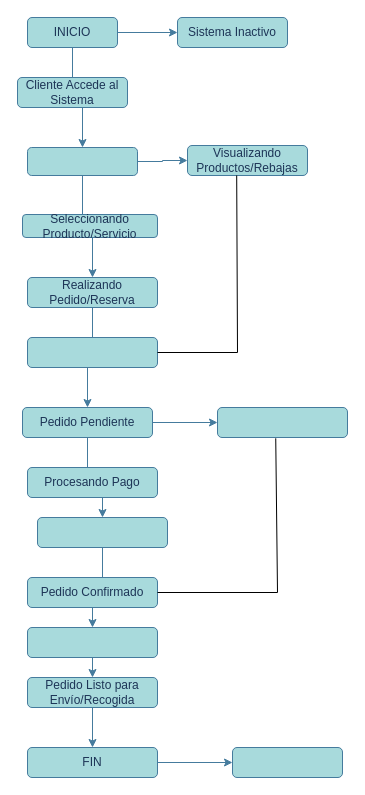
Some shapes in this 365 by 795 pixel diagram are drawn without their labels. Here are the shapes that lost their labels. From the top down, the box of each, then its label:
(26, 146, 138, 176): Consultando Disponibilidad
(26, 336, 158, 368): Proceso de Validación
(216, 406, 348, 438): Solicitud de Modificación
(36, 516, 168, 548): Autorizando Descuentos
(26, 626, 158, 658): En Proceso de Preparación
(232, 746, 342, 778): Pedido Completado
